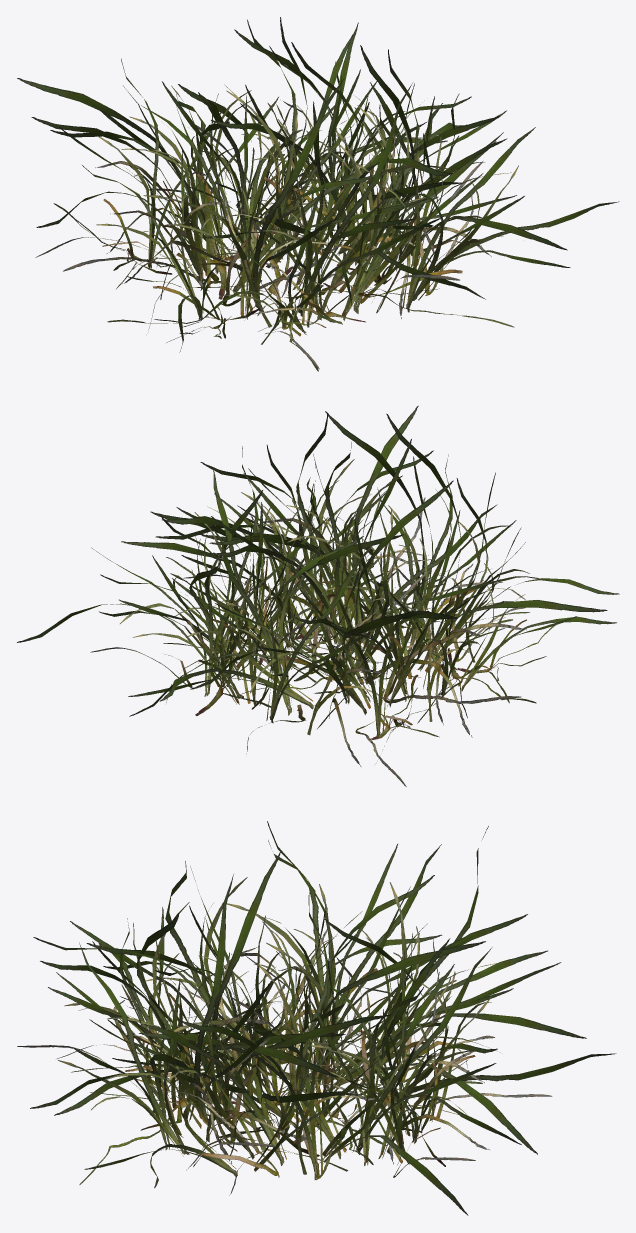
File: grass-medium-01-large-c.glb
3 views of the same model, one above another, from view 1: azimuth 30°, elevation 25°; view 2: azimuth 150°, elevation 25°; view 3: azimuth 270°, elevation 25° (orthographic). The views are drawn at different scales.
Parts seen in each view (by area): view 1: grass_medium_01_large_c; view 2: grass_medium_01_large_c; view 3: grass_medium_01_large_c.
Boxes of the visible parts, bbox=[...] form: grass_medium_01_large_c: bbox=[17, 17, 619, 371]; grass_medium_01_large_c: bbox=[17, 405, 619, 786]; grass_medium_01_large_c: bbox=[17, 821, 616, 1215].
Bounding box in the file's own units: 0.2788 × 0.1423 × 0.2551.
1 material, 1 textured.
